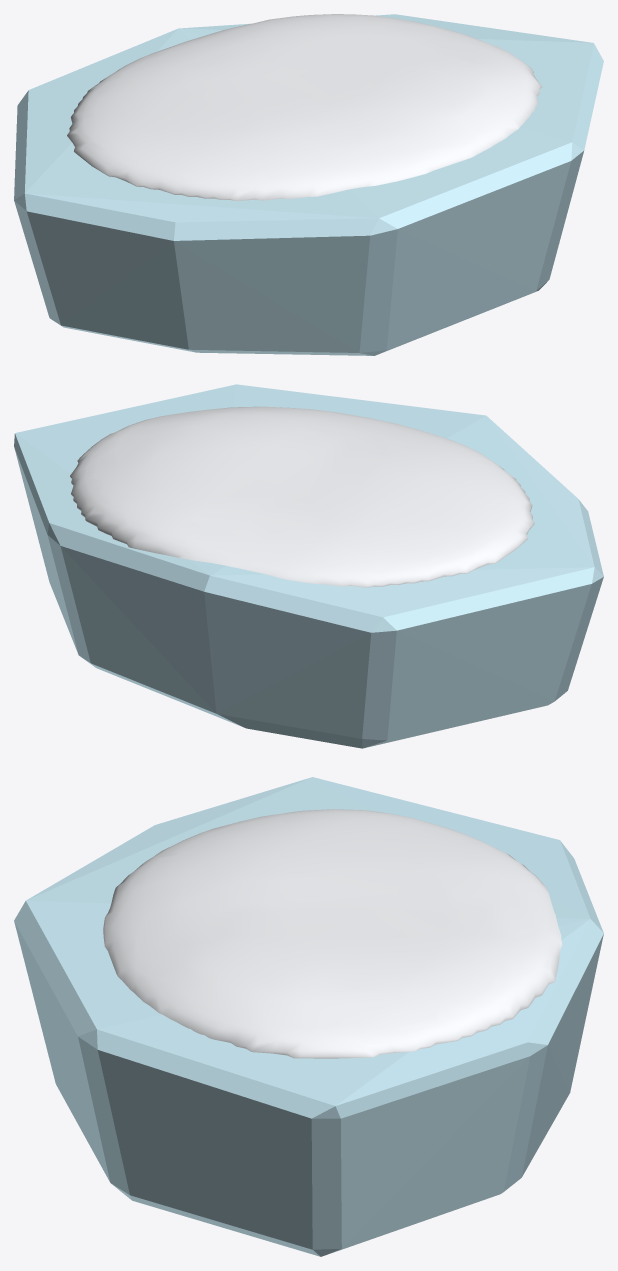
File: ice_floe_b.glb
The picture shows the model from 3 angles, top to bottom: view 1: azimuth 30°, elevation 25°; view 2: azimuth 150°, elevation 25°; view 3: azimuth 270°, elevation 25°; orthographic projection. The views are drawn at different scales.
Visible parts, largest first — view 1: Floe0, FloeSnow0; view 2: Floe0, FloeSnow0; view 3: Floe0, FloeSnow0.
Boxes of the visible parts, left/top/right/bottom form: Floe0: left=14, top=14, right=603, bottom=355; FloeSnow0: left=67, top=14, right=542, bottom=201; Floe0: left=14, top=384, right=603, bottom=748; FloeSnow0: left=70, top=406, right=534, bottom=587; Floe0: left=14, top=777, right=603, bottom=1256; FloeSnow0: left=103, top=809, right=562, bottom=1058.
Bounding box in the file's own units: 3.41 × 0.998 × 2.55.
